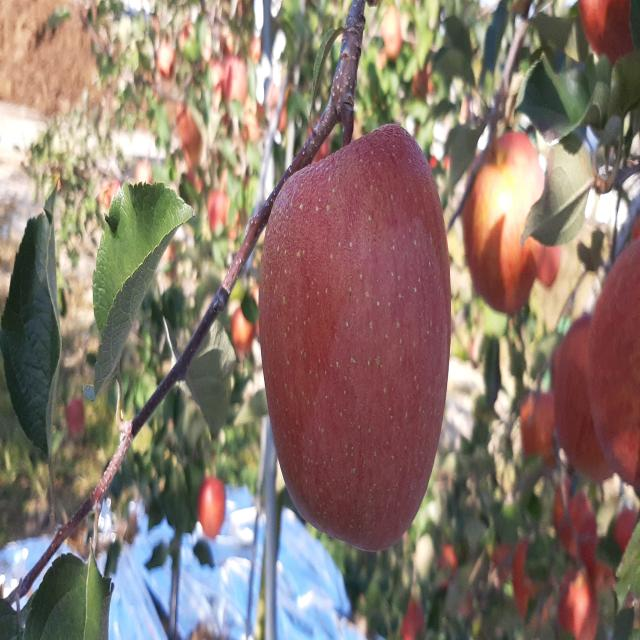fresh: (257, 115, 456, 558)
